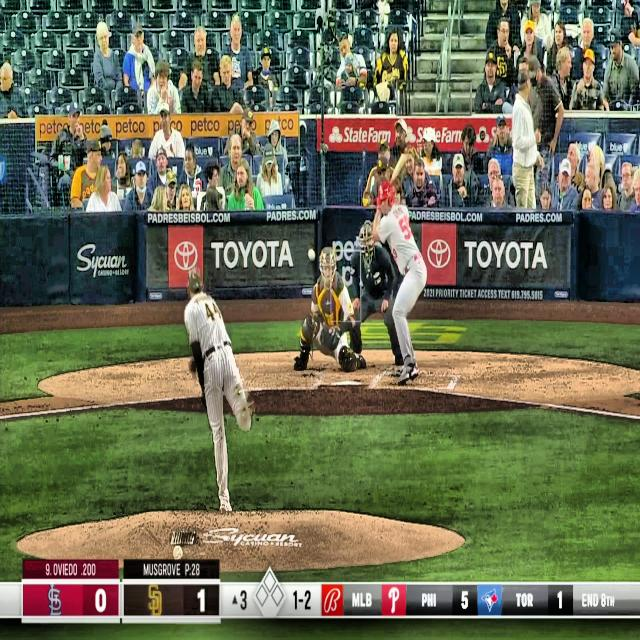baseball: (307, 248, 316, 262)
